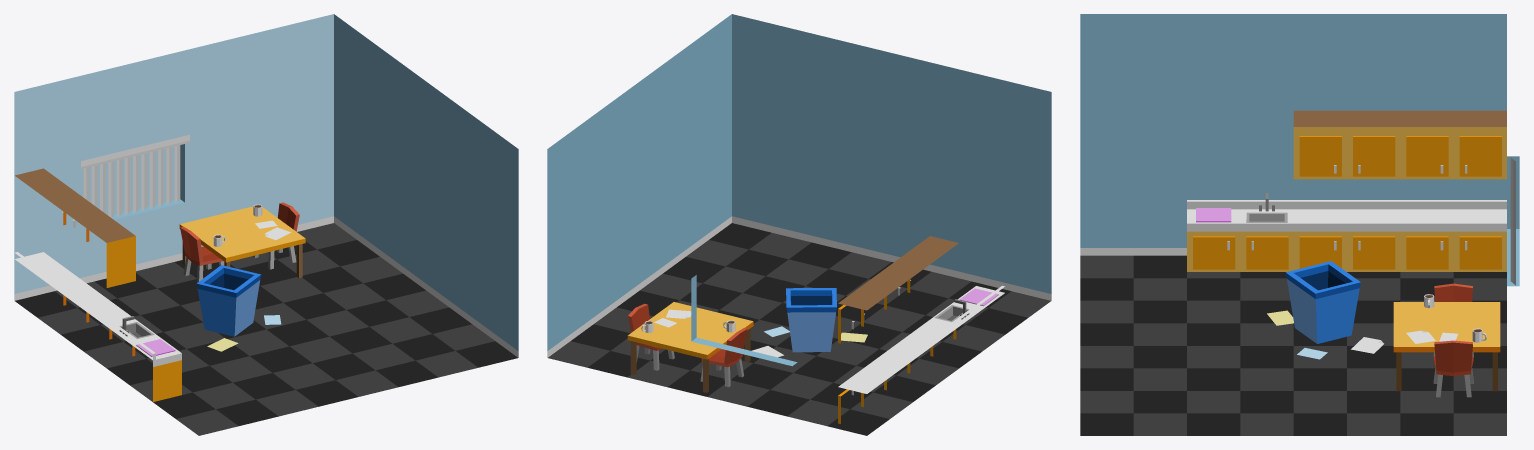
Rendered from office.glb.
The picture shows the model from 3 angles, left to right: view 1: azimuth 30°, elevation 25°; view 2: azimuth 150°, elevation 25°; view 3: azimuth 270°, elevation 25°; orthographic projection. The views are drawn at different scales.
Visible parts, largest first — view 1: Room, Trash, Chair, Chair.001; view 2: Room, Trash, Chair, Chair.001; view 3: Room, Trash, Chair.001, Chair.
Part boxes in pixels (<box>): Room: <box>14,14,518,435</box>; Trash: <box>196,265,261,336</box>; Chair: <box>180,226,224,282</box>; Chair.001: <box>252,202,299,269</box>; Room: <box>547,14,1051,435</box>; Trash: <box>786,288,836,352</box>; Chair: <box>700,328,747,387</box>; Chair.001: <box>628,303,674,370</box>; Room: <box>1080,14,1519,435</box>; Trash: <box>1285,261,1360,343</box>; Chair.001: <box>1433,340,1473,397</box>; Chair: <box>1433,283,1473,357</box>.
Bounding box in the file's own units: 8 × 5 × 8.23.
1 material, 1 textured.
